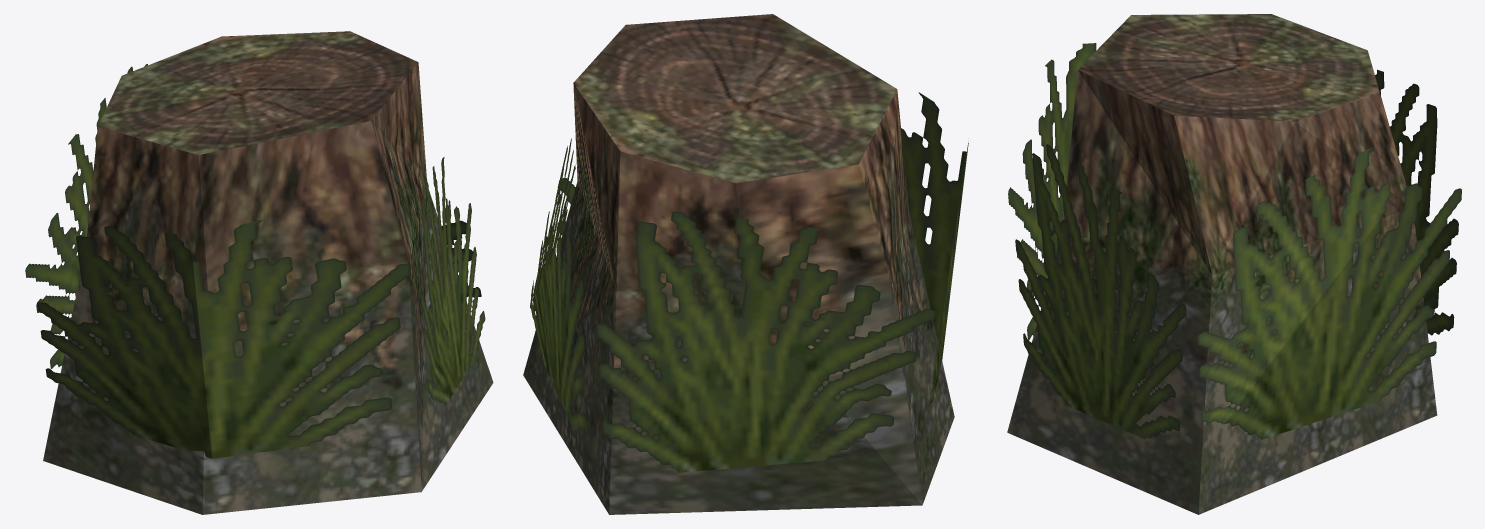
Rendered from C1SNPNASTUMPH.obj.
3 renders of one model, left to right at view 1: azimuth 30°, elevation 25°; view 2: azimuth 150°, elevation 25°; view 3: azimuth 270°, elevation 25°, orthographic. The views are drawn at different scales.
Visible parts, largest first — view 1: Node 0; view 2: Node 0; view 3: Node 0.
Part boxes in pixels (x1=…): Node 0: x1=25, y1=31, x2=493, y2=514; Node 0: x1=523, y1=14, x2=968, y2=514; Node 0: x1=1007, y1=14, x2=1461, y2=514.
Size of the model in its own units: 4.52 by 3.39 by 4.07.
Materials: 1 (1 with a texture image).
